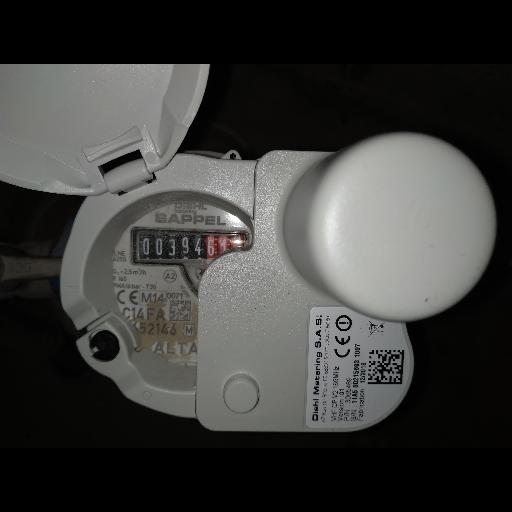0: (152, 235, 166, 260), (140, 235, 153, 260), (232, 234, 244, 249)
1: (217, 235, 229, 255)
3: (167, 235, 180, 259)
4: (191, 235, 204, 260)
6: (204, 235, 216, 259)
9: (179, 235, 192, 260)
border_water_meter_number: (131, 227, 250, 269)
